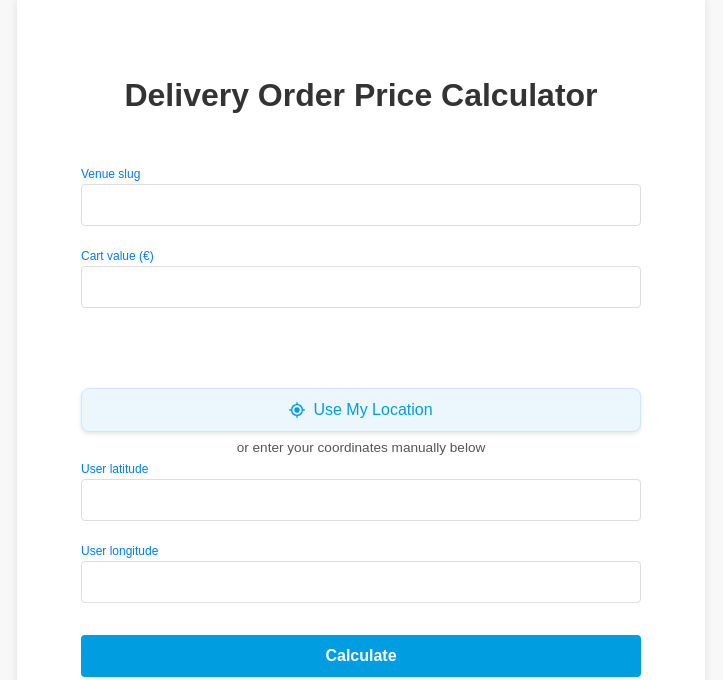
Test case: handles invalid distance ranges (all ranges are zero)
The width and height of the screenshot is (723, 680).
Type "test-venue" into the field labelled "Venue slug" at (361, 205), box left=81, top=184, right=641, bottom=226
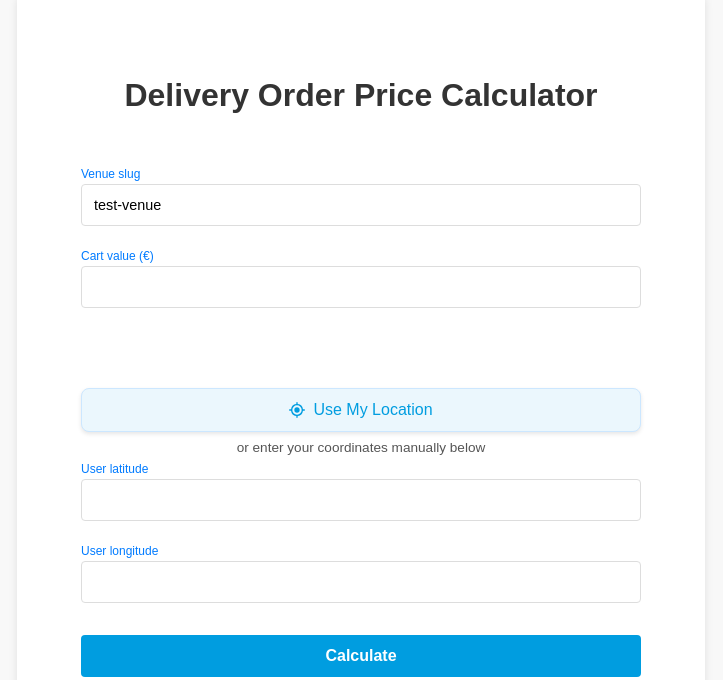
Type "24" into the number field labelled "Cart value (€)" at (361, 287), box left=81, top=266, right=641, bottom=308
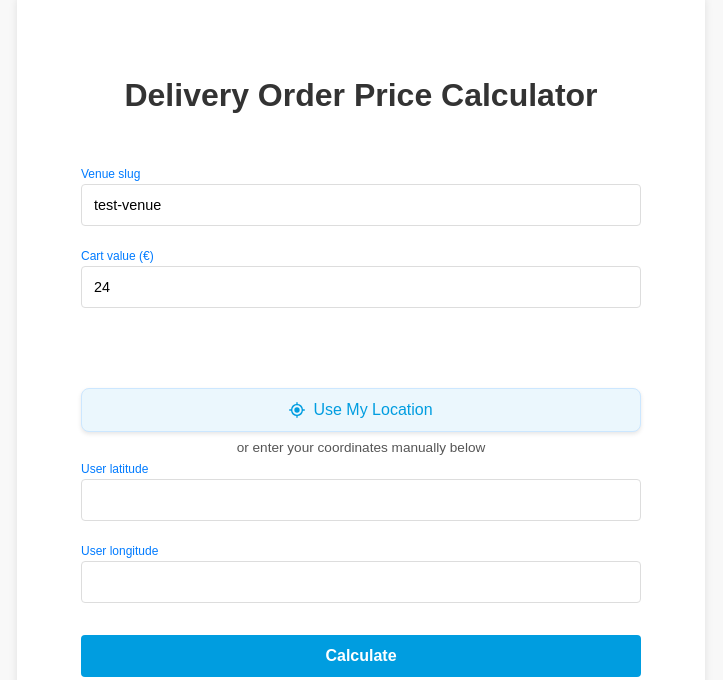
Type "60.1695" into the field labelled "User latitude" at (361, 500), box left=81, top=479, right=641, bottom=521
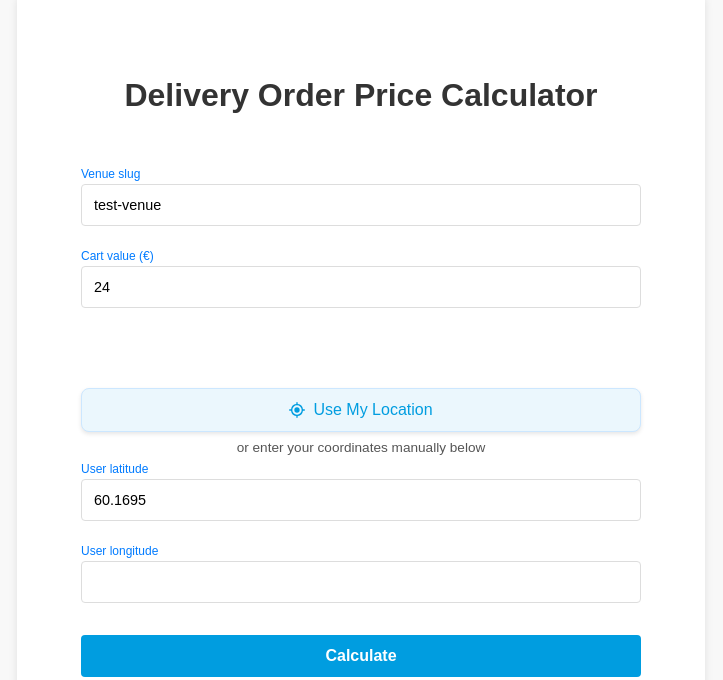
Type "24.9354" into the field labelled "User longitude" at (361, 582), box left=81, top=561, right=641, bottom=603
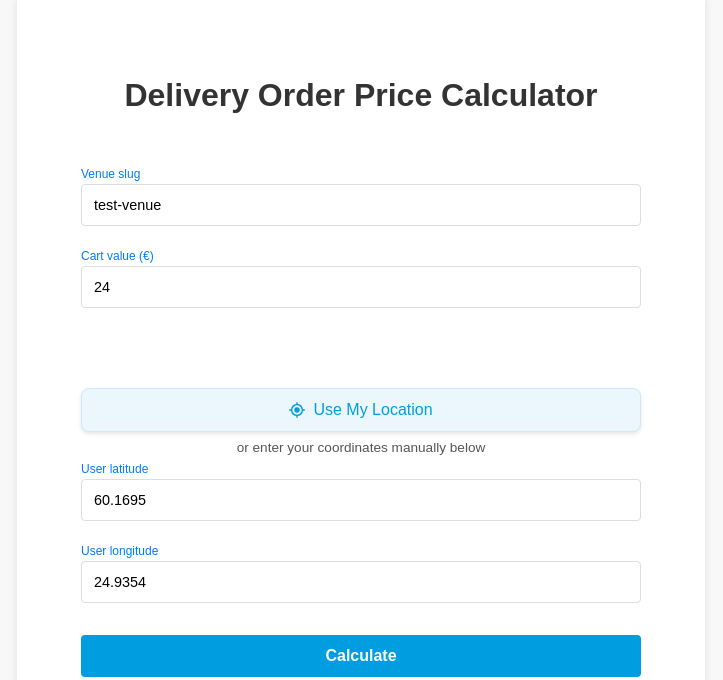
Click the button "Calculate" at (361, 656), box left=81, top=635, right=641, bottom=677
(page scrolled)
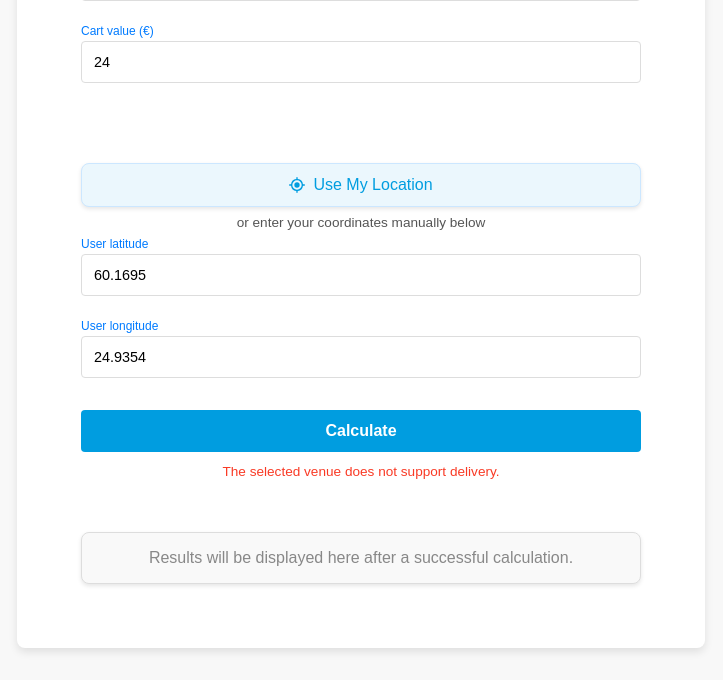
expect the text "The selected venue does not support delivery." is shown: met, box left=222, top=460, right=500, bottom=484
